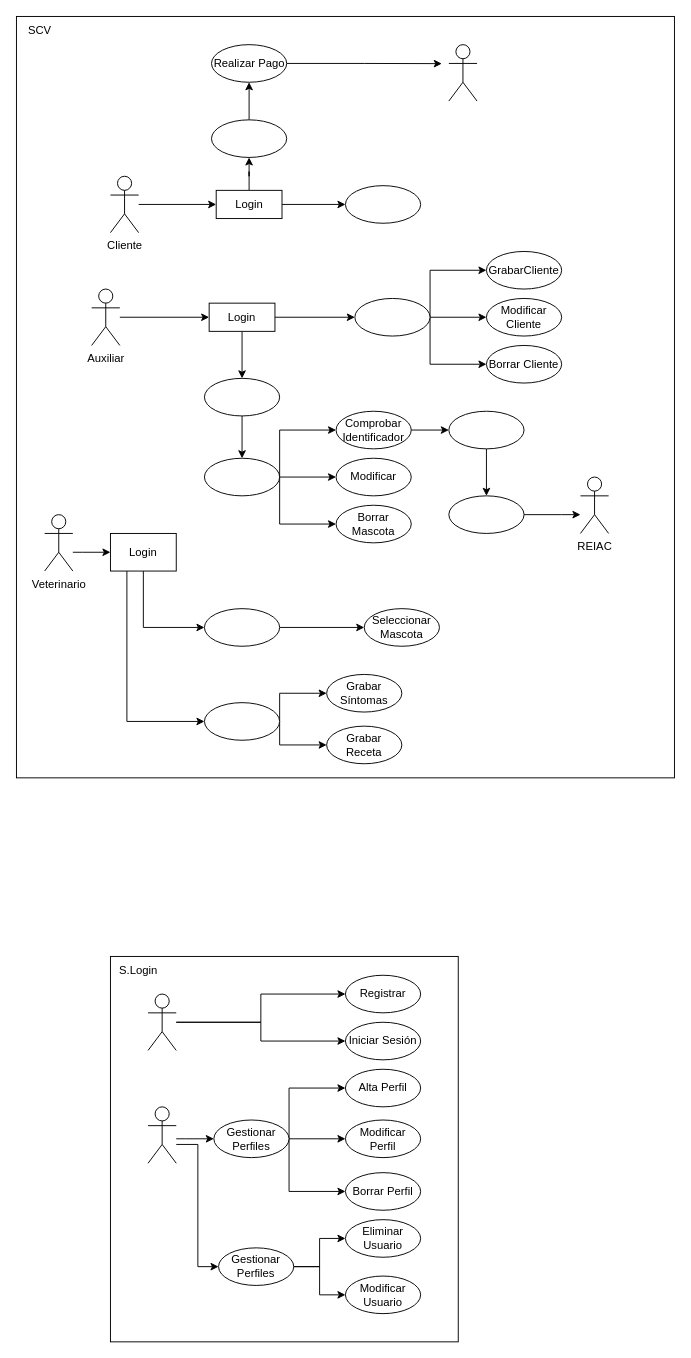
Some shapes in this 691 by 1358 pixel diagram are drawn without their labels. The shapes that lost their labels are listed below. From the top down, each one's box as (x1, y1, x2, y2) in pixels, then its label:
(448, 44, 477, 101): Pasarela Pago
(211, 119, 287, 157): Comunicar Sistema
(345, 185, 421, 223): Consultar Parte
(354, 298, 430, 336): Gestionar Cliente
(204, 377, 280, 416): Asignar Mascota
(448, 410, 524, 449): Grabar Mascota
(204, 457, 280, 496): Gestionar Mascota
(448, 495, 524, 533): Comprobar REIAC
(204, 608, 280, 646): Revisar Lista
(204, 702, 280, 740): Grabar Parte
(147, 993, 176, 1050): Usuarios
(147, 1106, 176, 1163): Administrador
